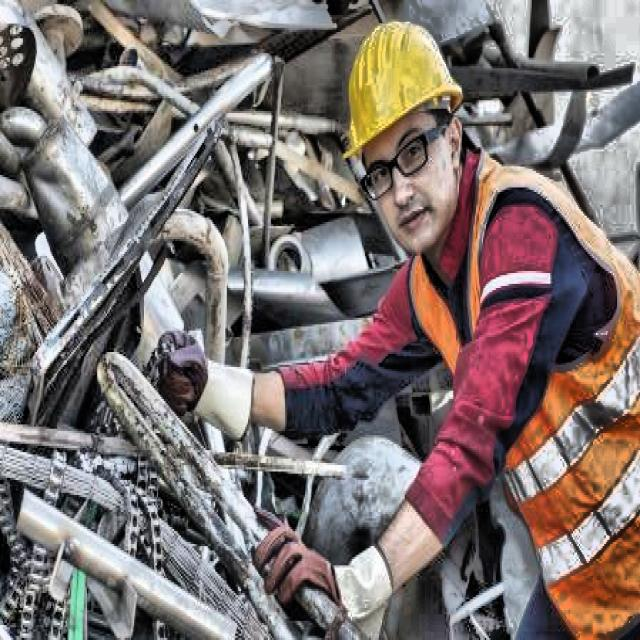helmet: (325, 7, 487, 276)
